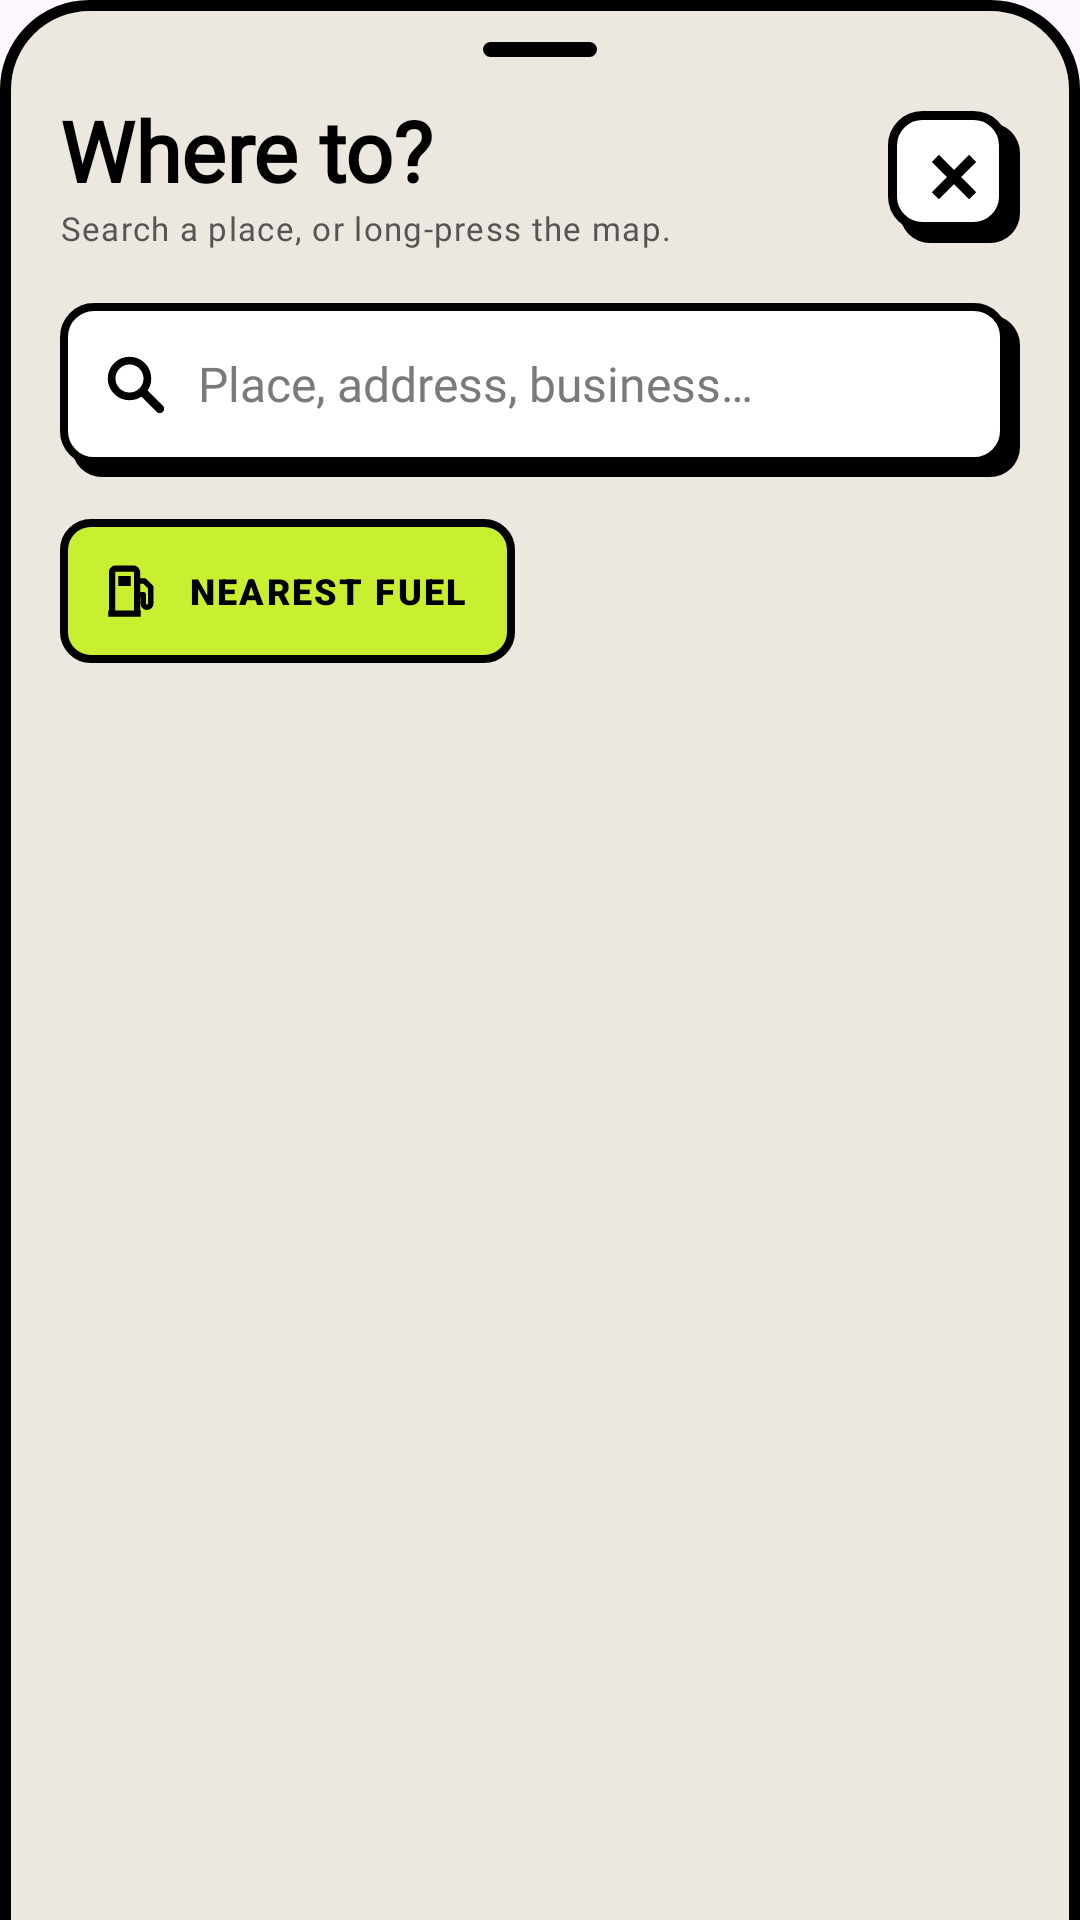

Named icons in this screenshot (1080w x 1920h) and their centers, (x=x, y=y):
Close: (x=954, y=177)
fuel neo: (x=131, y=591)
search neo: (x=135, y=384)
